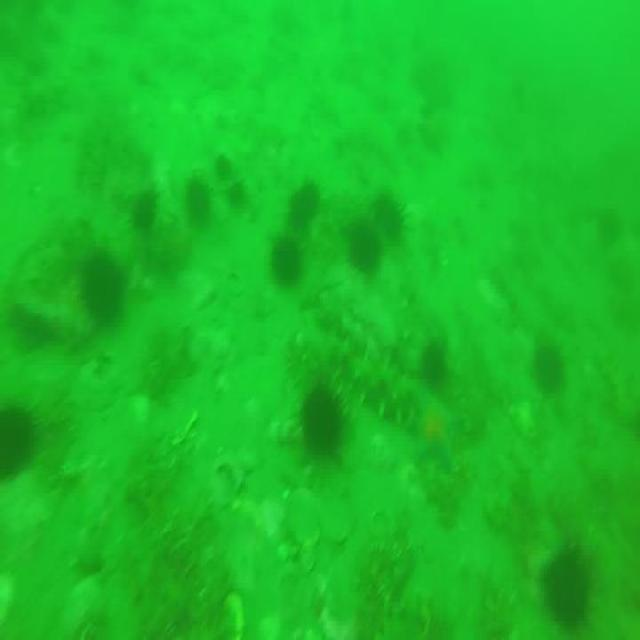echinus: (541, 545, 594, 629), (76, 250, 122, 326), (302, 384, 348, 458), (0, 410, 35, 480), (286, 185, 322, 242), (532, 343, 567, 395), (271, 229, 300, 281), (350, 223, 380, 273), (376, 191, 404, 242), (135, 185, 157, 232), (188, 178, 210, 222), (422, 343, 444, 384), (228, 178, 248, 206)
holothurian: (346, 346, 420, 430)
scallop: (284, 492, 349, 545), (204, 449, 246, 501), (124, 394, 156, 432), (220, 596, 246, 640), (253, 496, 280, 536)
starfish: (412, 385, 460, 471)
